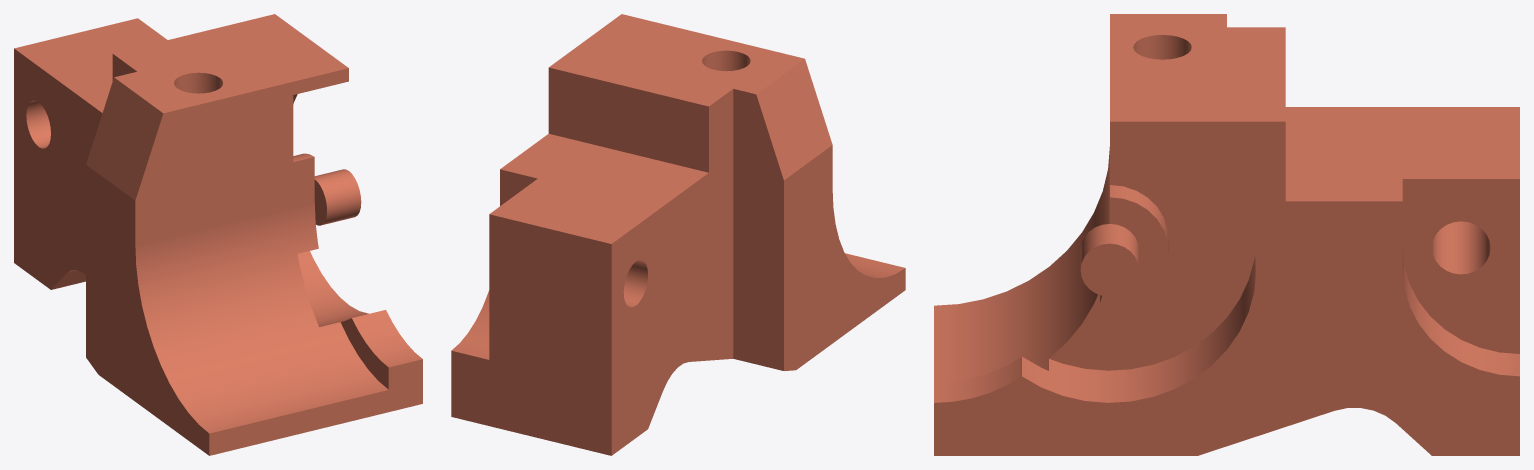
3 renders of one model, left to right at view 1: azimuth 30°, elevation 25°; view 2: azimuth 150°, elevation 25°; view 3: azimuth 270°, elevation 25°, orthographic. The views are drawn at different scales.
Visible parts, largest first — view 1: Q1; view 2: Q1; view 3: Q1.
Part boxes in pixels (x1,y1,x2,y2): Q1: (14,14,422,455); Q1: (451,14,905,455); Q1: (934,14,1519,455).
Size of the model in its own units: 0.05 by 0.063 by 0.1.
